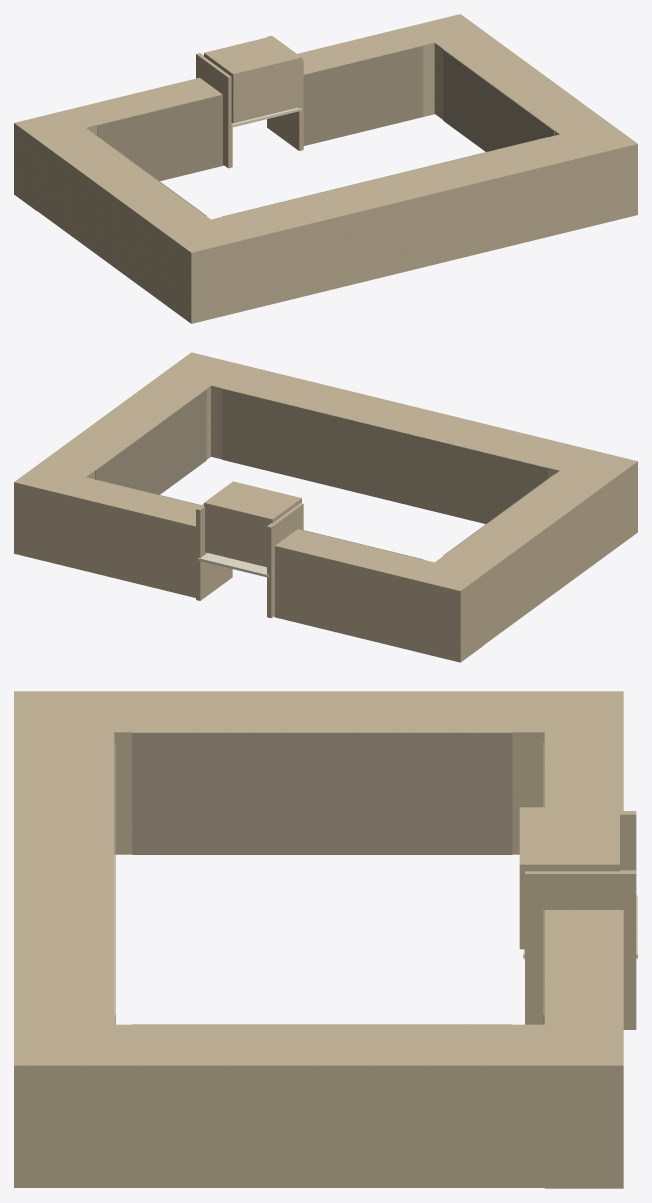
File: KOL_T1_INDIAN_MUSEUM__01_PrimaryStructure.fbx
The picture shows the model from 3 angles, top to bottom: view 1: azimuth 30°, elevation 25°; view 2: azimuth 150°, elevation 25°; view 3: azimuth 270°, elevation 25°; orthographic projection. The views are drawn at different scales.
Parts seen in each view (by area): view 1: KOL_T1_INDIAN_MUSEUM__01_PrimaryStructure__KOL_T1_B4_MuseumW, KOL_T1_INDIAN_MUSEUM__01_PrimaryStructure__KOL_T1_B4_MuseumR; view 2: KOL_T1_INDIAN_MUSEUM__01_PrimaryStructure__KOL_T1_B4_MuseumW, KOL_T1_INDIAN_MUSEUM__01_PrimaryStructure__KOL_T1_B4_MuseumR, KOL_T1_INDIAN_MUSEUM__01_PrimaryStructure__KOL_T1_B4_MuseumT; view 3: KOL_T1_INDIAN_MUSEUM__01_PrimaryStructure__KOL_T1_B4_MuseumW, KOL_T1_INDIAN_MUSEUM__01_PrimaryStructure__KOL_T1_B4_MuseumR.
Boxes of the visible parts, left/top/right/bottom form: KOL_T1_INDIAN_MUSEUM__01_PrimaryStructure__KOL_T1_B4_MuseumW: left=14, top=14, right=637, bottom=323; KOL_T1_INDIAN_MUSEUM__01_PrimaryStructure__KOL_T1_B4_MuseumR: left=95, top=45, right=554, bottom=216; KOL_T1_INDIAN_MUSEUM__01_PrimaryStructure__KOL_T1_B4_MuseumW: left=14, top=352, right=637, bottom=662; KOL_T1_INDIAN_MUSEUM__01_PrimaryStructure__KOL_T1_B4_MuseumR: left=95, top=388, right=554, bottom=559; KOL_T1_INDIAN_MUSEUM__01_PrimaryStructure__KOL_T1_B4_MuseumT: left=198, top=553, right=268, bottom=577; KOL_T1_INDIAN_MUSEUM__01_PrimaryStructure__KOL_T1_B4_MuseumW: left=14, top=691, right=636, bottom=1188; KOL_T1_INDIAN_MUSEUM__01_PrimaryStructure__KOL_T1_B4_MuseumR: left=114, top=732, right=544, bottom=1024.
Size of the model in its own units: 247 by 50.9 by 174.
3 materials, 1 textured.
